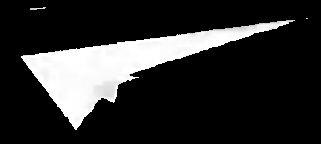Plane: (17, 15, 300, 137)
